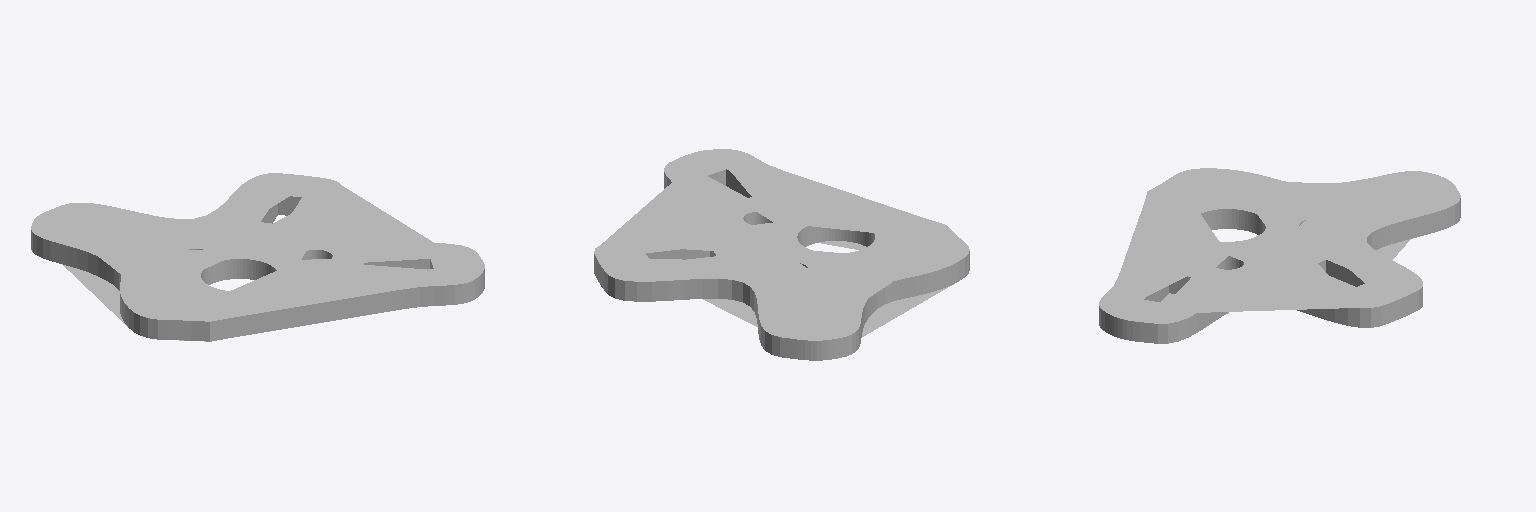
File: Motor bottom. Test.obj
3 views of the same model, side by side, from view 1: azimuth 30°, elevation 25°; view 2: azimuth 150°, elevation 25°; view 3: azimuth 270°, elevation 25° (orthographic).
Visible parts, largest first — view 1: Circle.002; view 2: Circle.002; view 3: Circle.002.
Boxes of the visible parts, x1,y1,x2,y2 form: Circle.002: [31, 173, 484, 341]; Circle.002: [594, 149, 969, 360]; Circle.002: [1099, 168, 1460, 343].
Size of the model in its own units: 0.0334 by 0.002 by 0.0328.